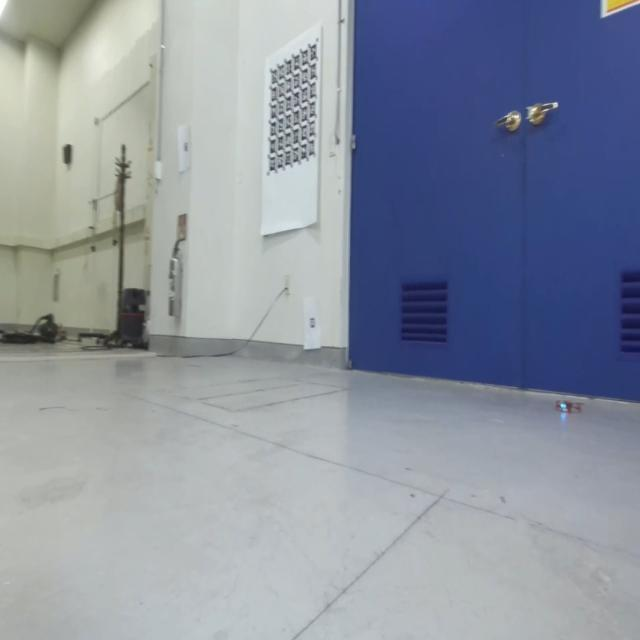crazyflie: (552, 390, 584, 422)
